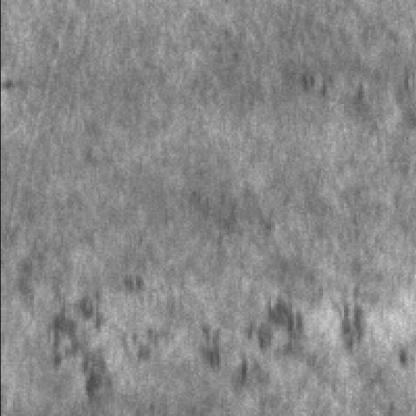rolled-in_scale: (50, 280, 372, 405), (293, 54, 393, 116)
